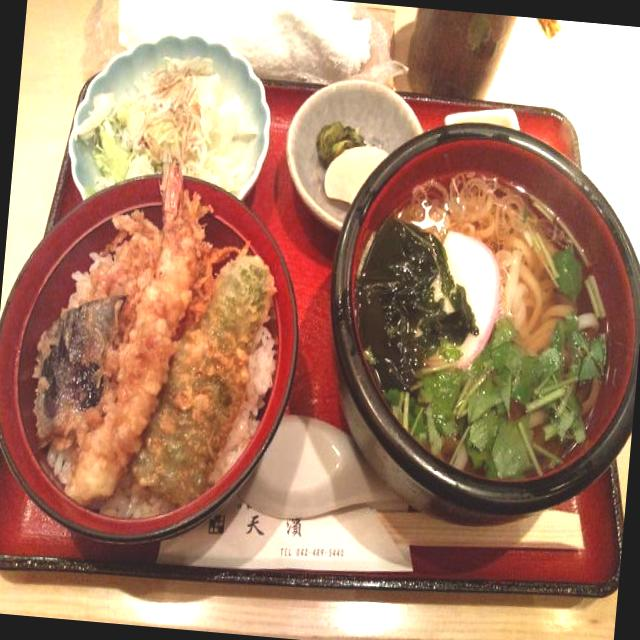Green Salad: (76, 35, 272, 206)
